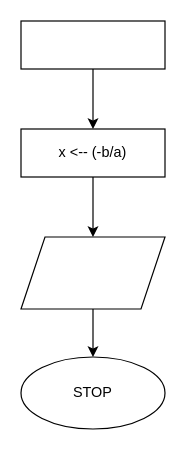
Image size: 186x450. Some labels were removed from this diagram. The shapes that lost their labels are listed below. From the top down, each one's centre as x and y in pixels, then its label:
point (92, 44): pobierz a, b
point (92, 272): wypisz x
